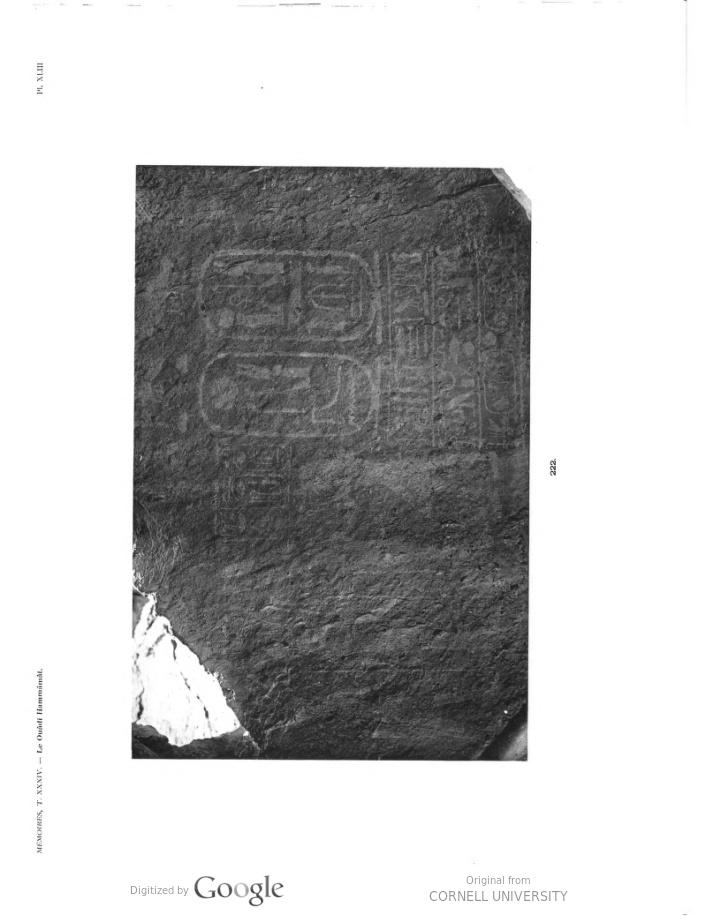circle: (174, 232, 395, 353), (188, 340, 399, 458), (480, 338, 535, 435), (474, 267, 523, 335)
